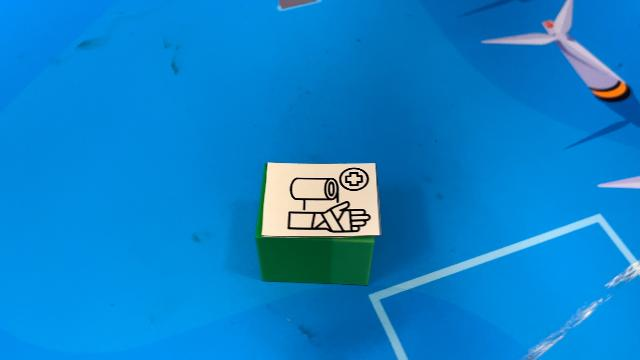bandage: (255, 161, 382, 285)
